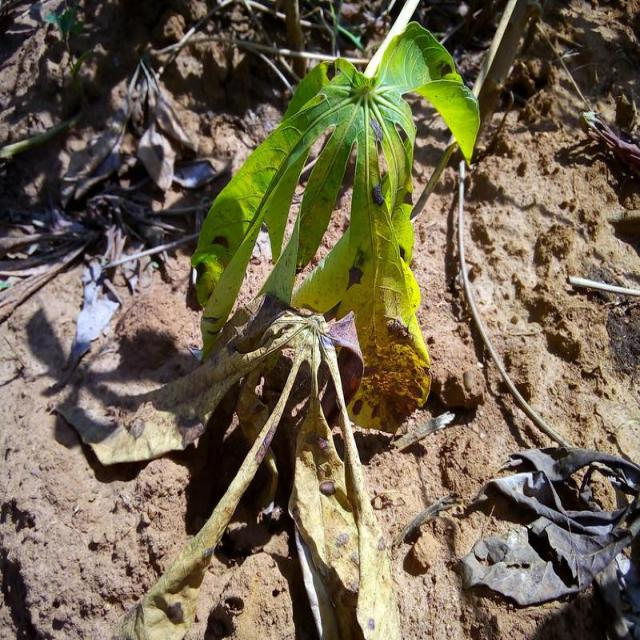cassava leaf: (189, 15, 481, 434)
